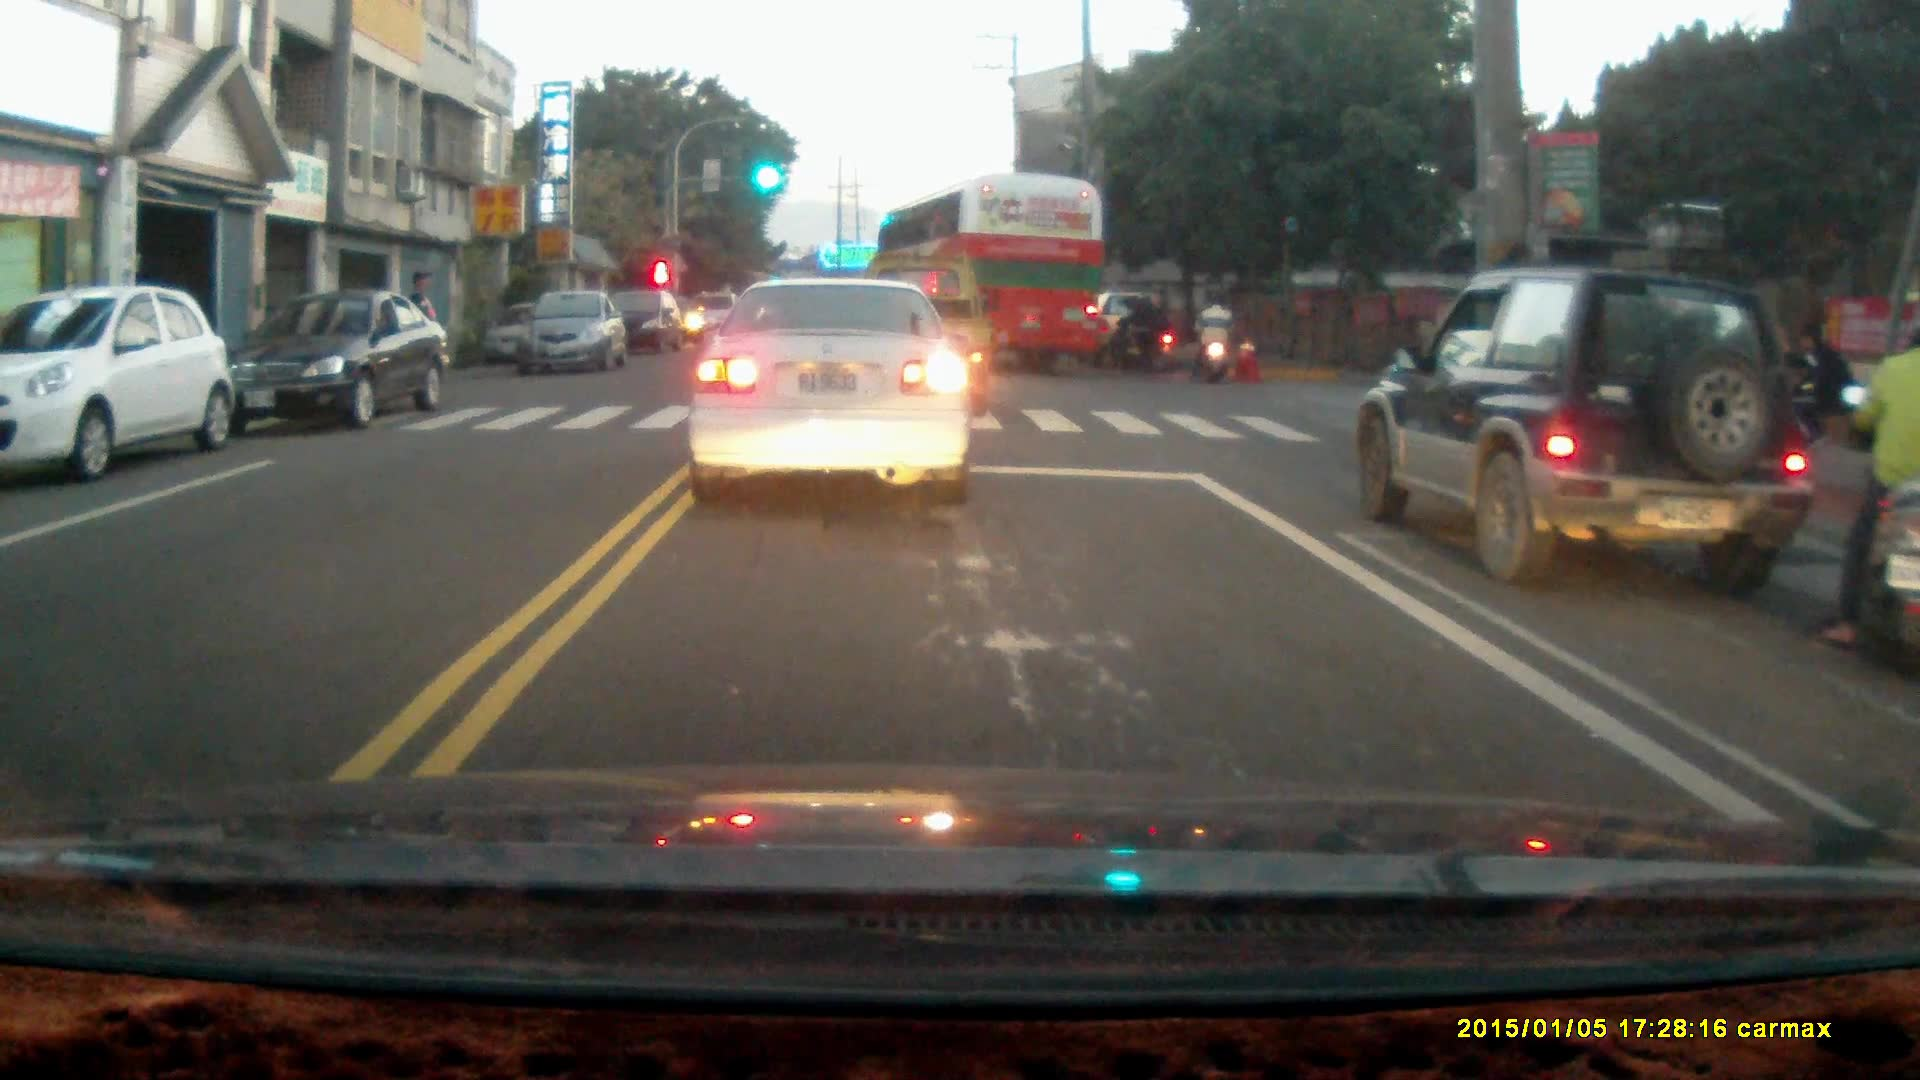pedestrian: (1790, 320, 1849, 439), (404, 269, 438, 387)
rider: (1817, 326, 1920, 674), (1097, 290, 1172, 372), (1188, 288, 1237, 381)
vehicle: (1356, 265, 1820, 588), (686, 274, 978, 511), (868, 172, 1108, 376), (2, 283, 236, 486), (214, 290, 452, 433), (507, 291, 629, 380), (615, 286, 692, 358)
